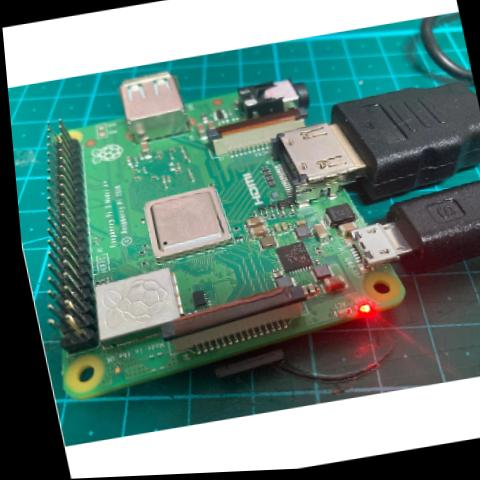Raspberry-Pi-3-Model-A-: (3, 34, 422, 411)
